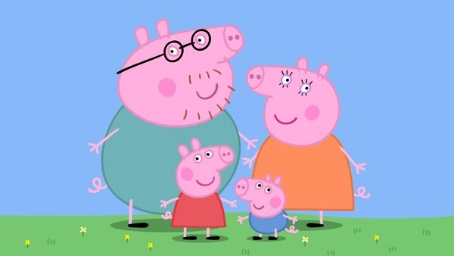Peppa: (161, 138, 239, 242)
